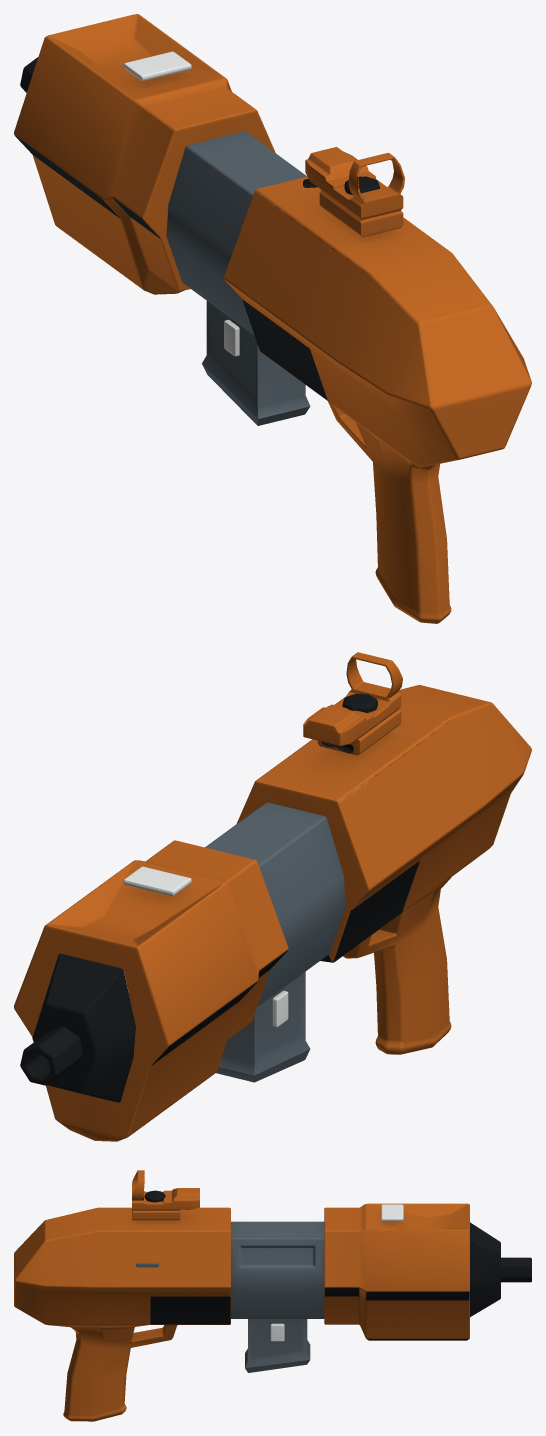
The model's file is smg.glb.
3 views of the same model, one above another, from view 1: azimuth 30°, elevation 25°; view 2: azimuth 150°, elevation 25°; view 3: azimuth 270°, elevation 25° (orthographic). The views are drawn at different scales.
Visible parts, largest first — view 1: smg, InsertedAmmo; view 2: smg, InsertedAmmo; view 3: smg, InsertedAmmo.
Boxes of the visible parts, box(x1,y1,x2,y2) form: smg: box(14, 14, 531, 623); InsertedAmmo: box(202, 301, 310, 425); smg: box(14, 652, 531, 1141); InsertedAmmo: box(216, 972, 310, 1082); smg: box(14, 1170, 531, 1421); InsertedAmmo: box(245, 1319, 310, 1372).
Size of the model in its own units: 0.1353 by 0.3469 by 0.668.
Materials: 1 (1 with a texture image).
